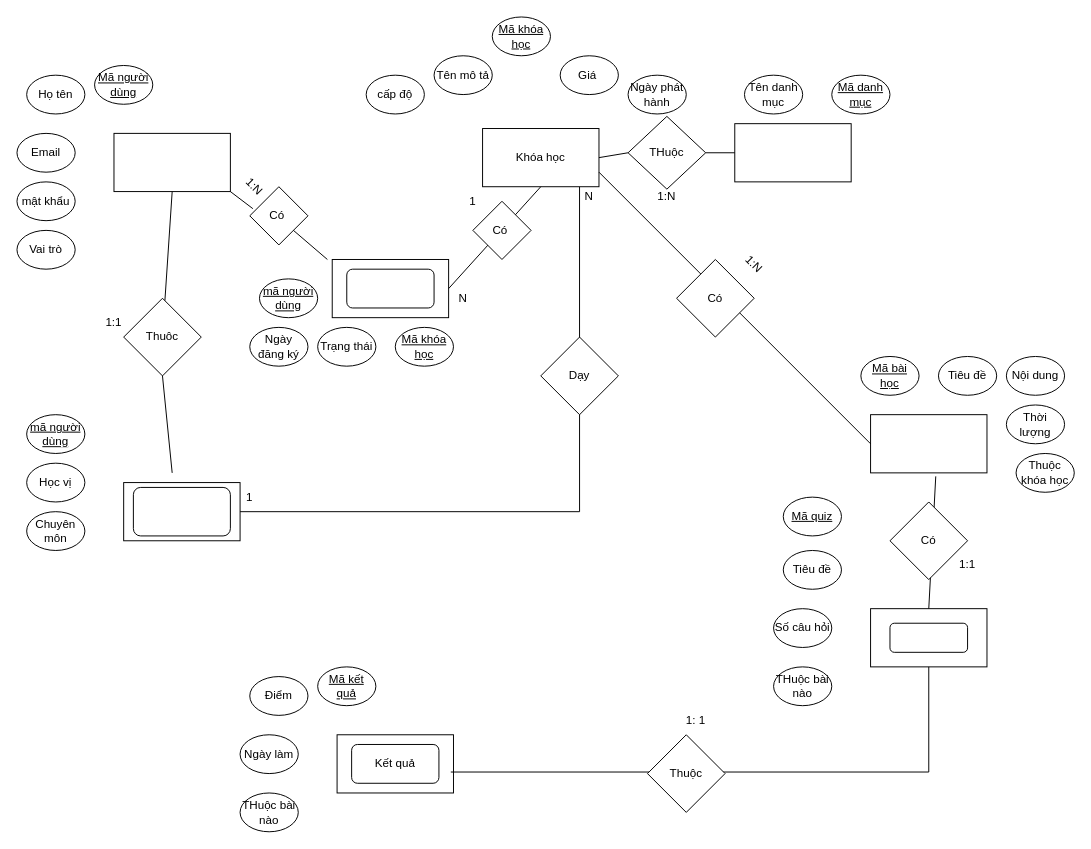
Some shapes in this 1091 by 849 pixel diagram are drawn without their labels. The centre of each missing label's shape, as x and y in pixels:
"Bài học" goes at (928,443).
"Bài kiểm tra" goes at (928,637).
"Danh mục khóa học" goes at (792,152).
"Giảng viên" goes at (181,511).
"Người dùng" goes at (171,162).
"Đăng ký học" goes at (390,288).
